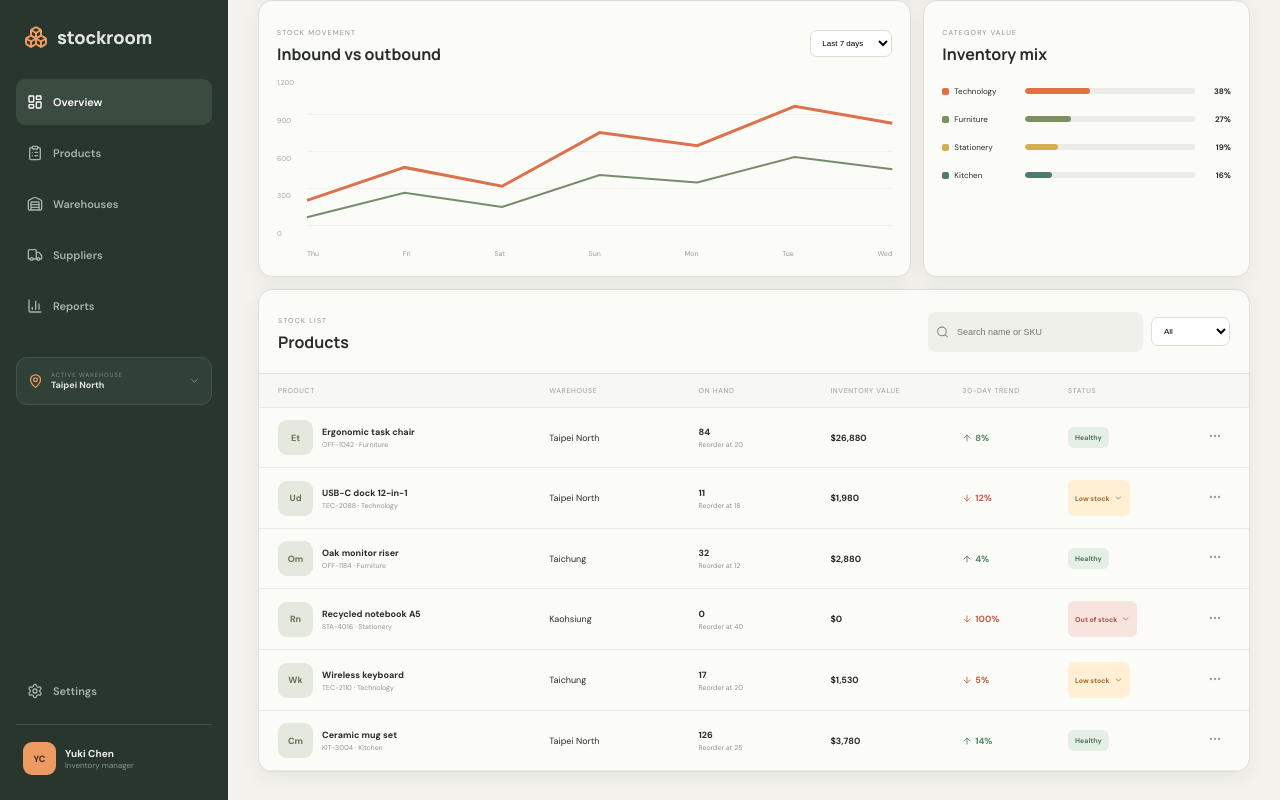
Scenario: Inventory dashboard › receives inventory for an out-of-stock item
This screenshot has width=1280, height=800.
(page scrolled)
Check: the text "Recycled notebook A5" is shown, box [322,608,421,620]
Click the button "Out of stock".
click(1103, 619)  # box [1068,601,1137,637]
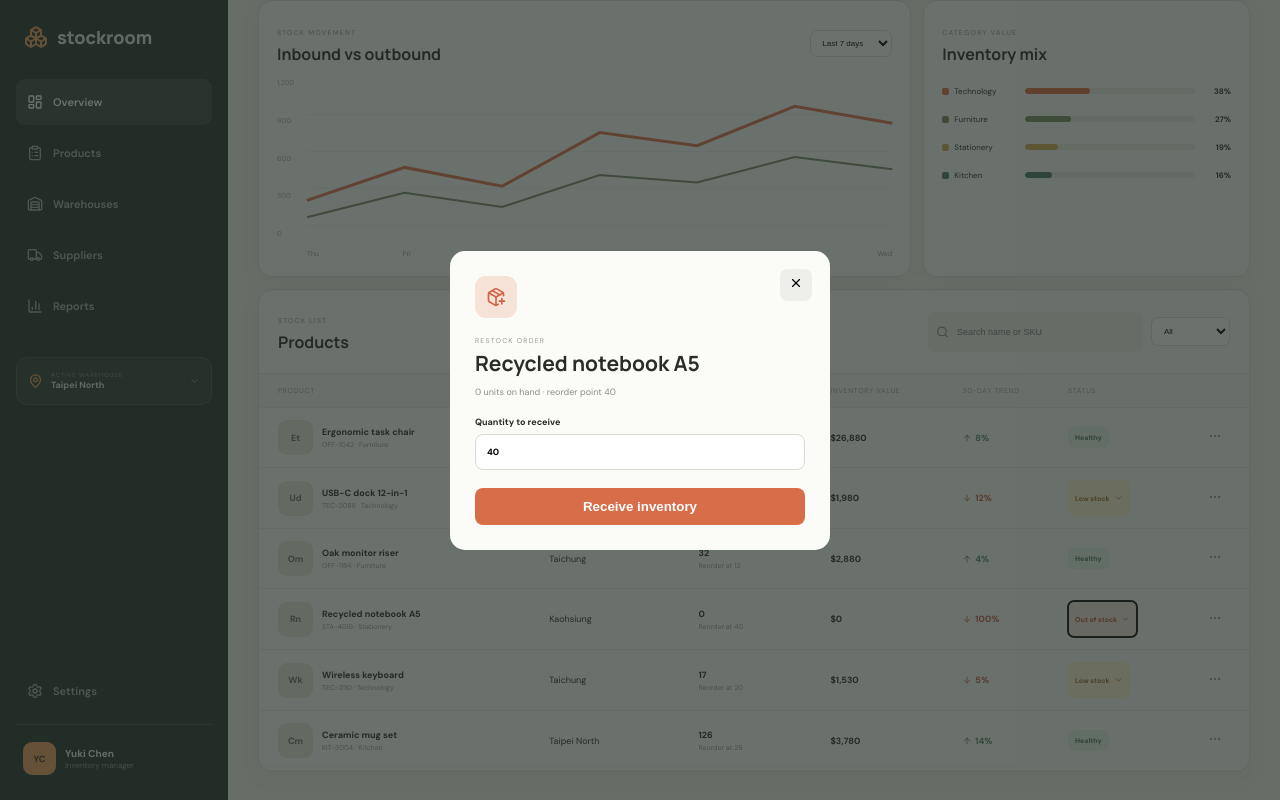
Replace the text in the number field labelled "Quantity to receive" with "50" at (640, 452), box [475,434,805,470]
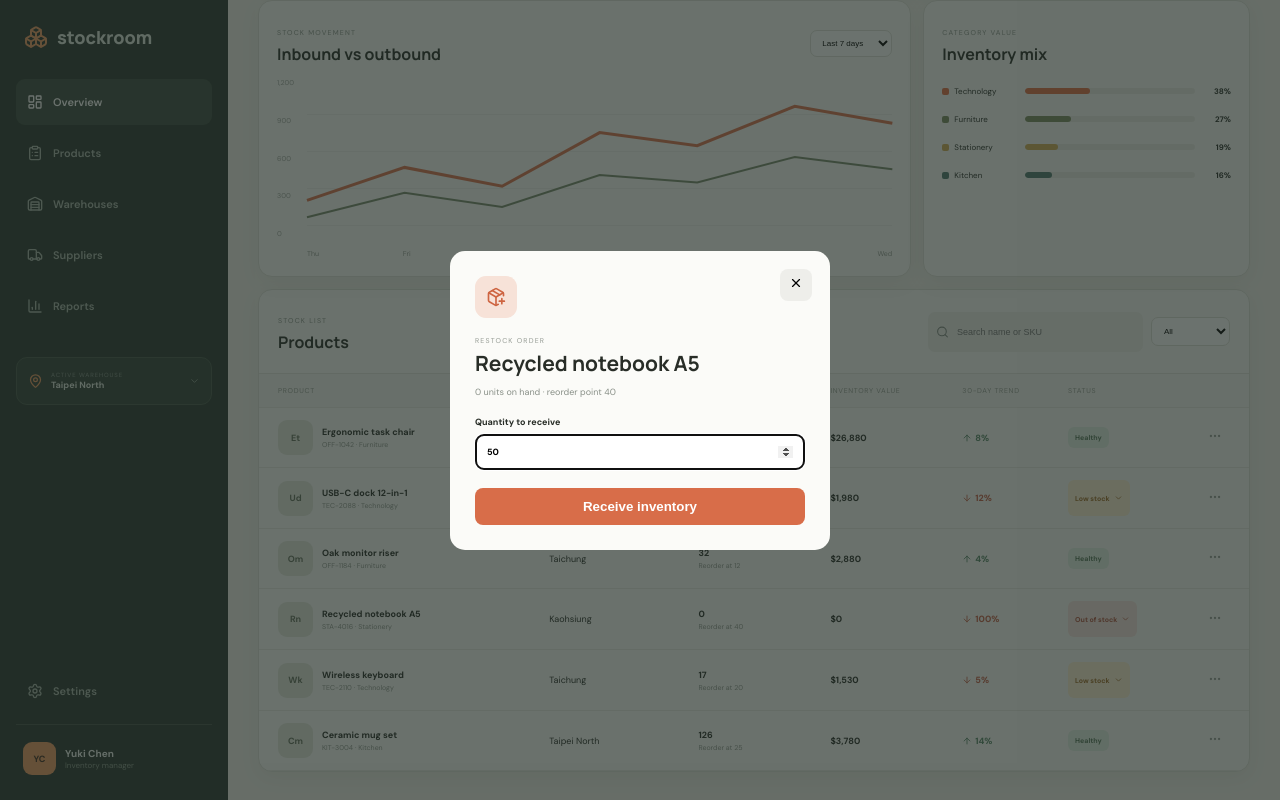
Click the button "Receive inventory".
click(640, 506)  # box [475,488,805,524]
(page scrolled)
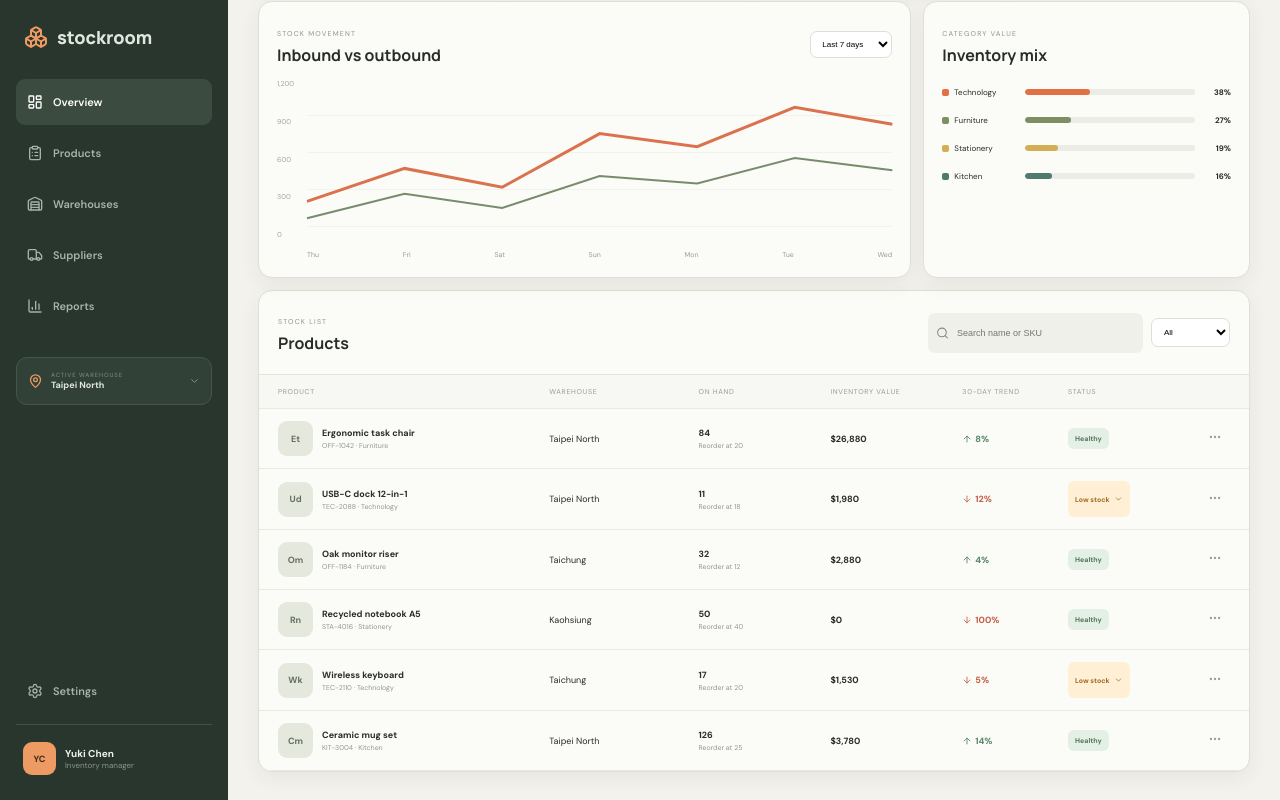
Check: the text "50" is shown, box [698,608,710,620]
